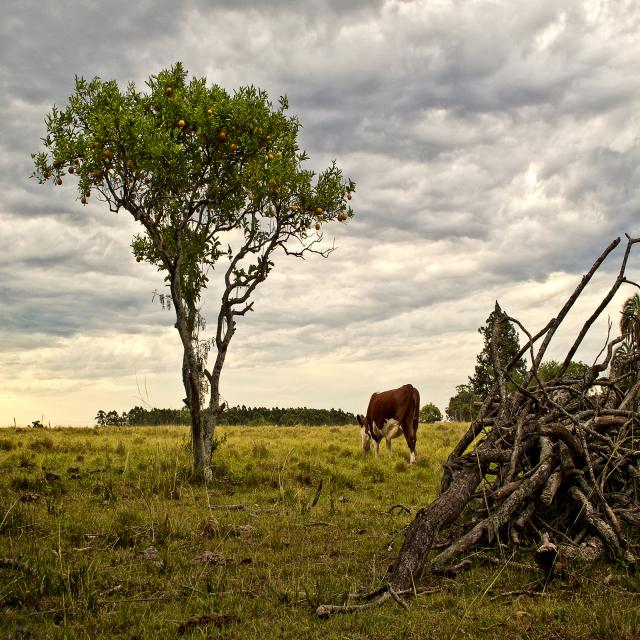cow: (356, 385, 420, 463)
